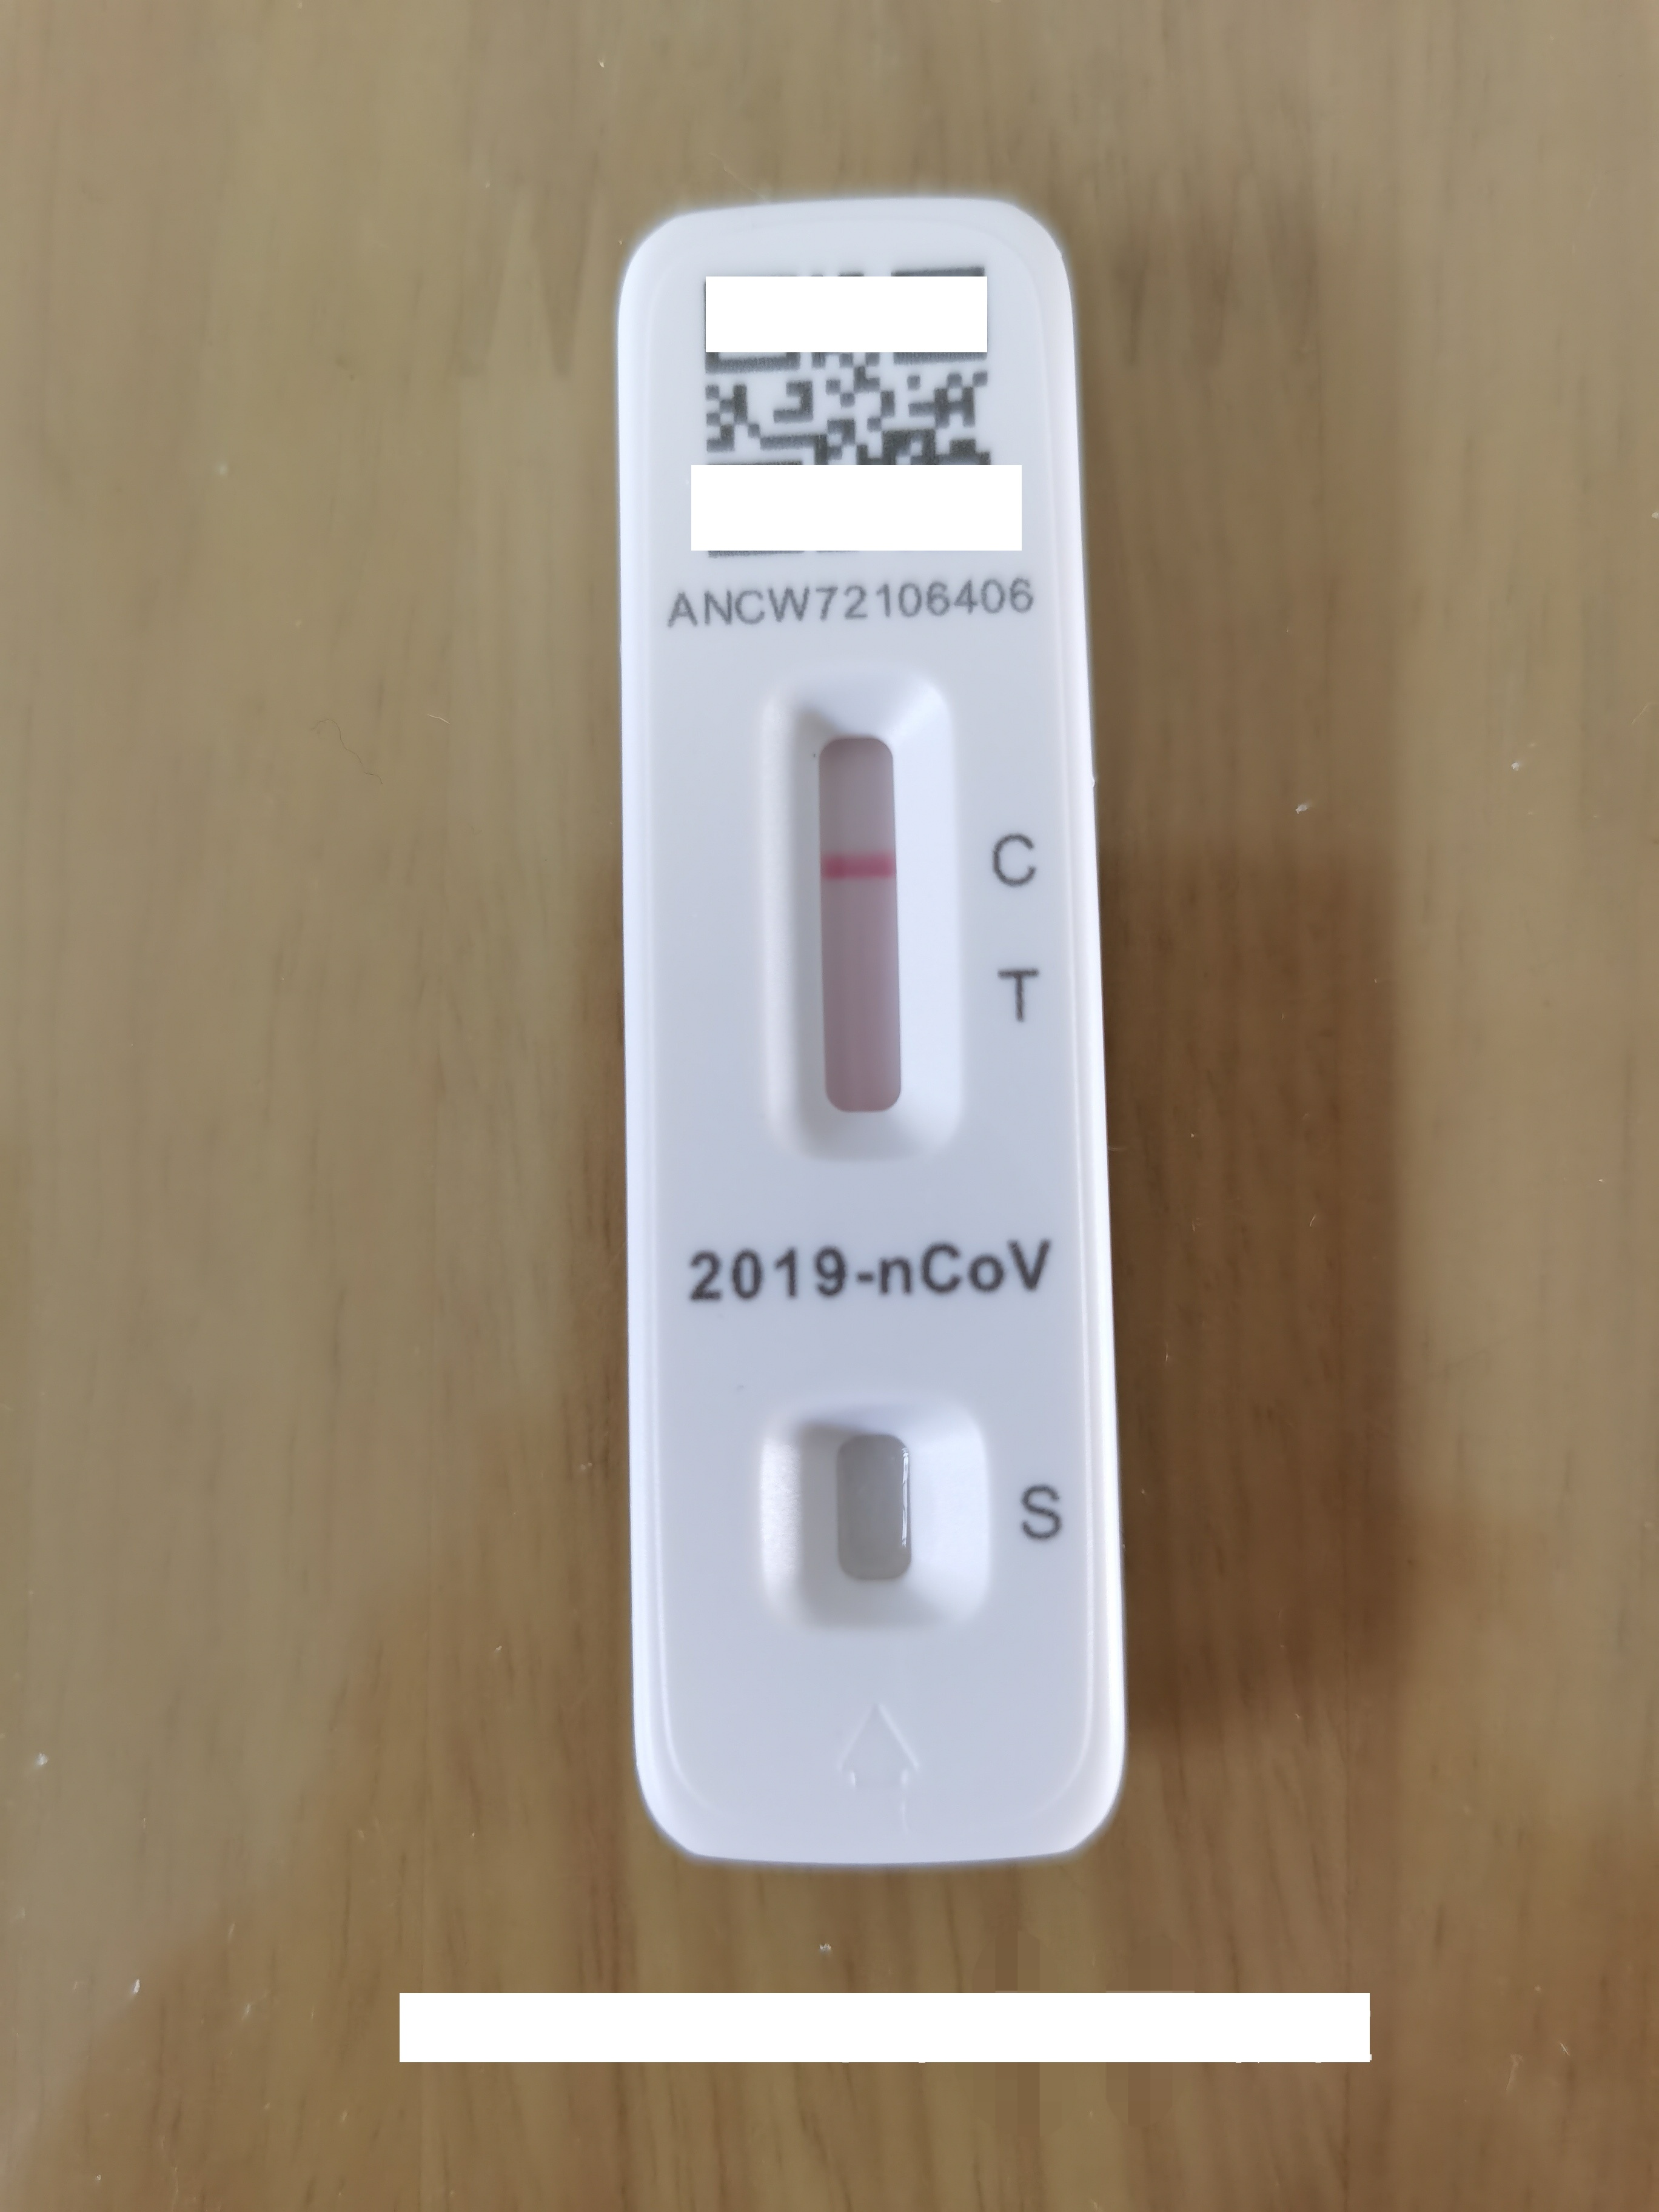negative: (772, 669, 936, 1184)
